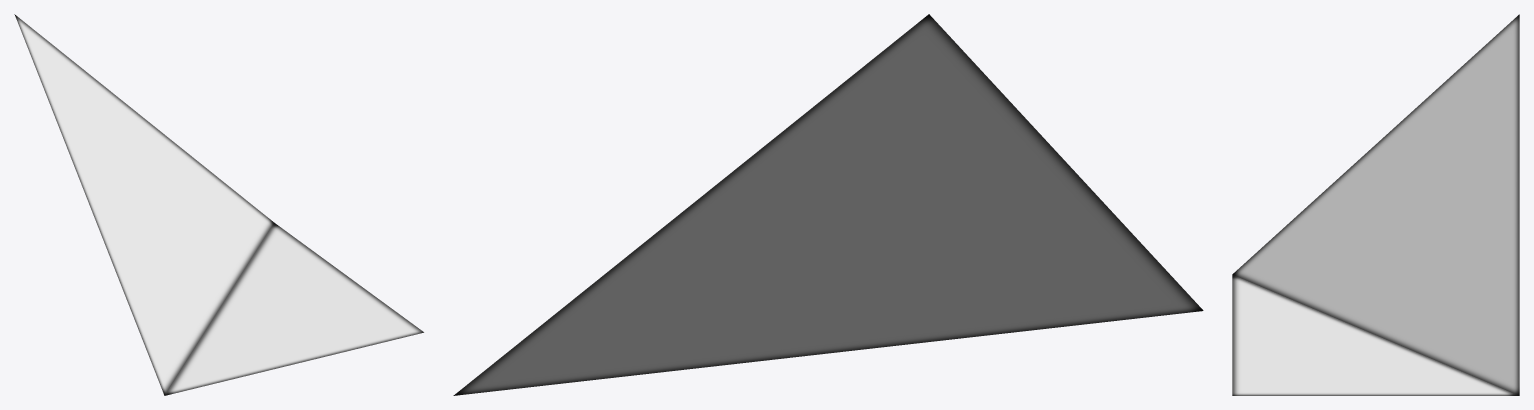
Rendered from corner_3-slope_inside_1-side.fbx.
The picture shows the model from 3 angles, left to right: view 1: azimuth 30°, elevation 25°; view 2: azimuth 150°, elevation 25°; view 3: azimuth 270°, elevation 25°; orthographic projection. The views are drawn at different scales.
Visible parts, largest first — view 1: corner_3-slope_inside_1-side; view 2: corner_3-slope_inside_1-side; view 3: corner_3-slope_inside_1-side.
Part boxes in pixels (left/top/right/bottom): corner_3-slope_inside_1-side: left=14, top=14, right=423, bottom=395; corner_3-slope_inside_1-side: left=453, top=14, right=1203, bottom=395; corner_3-slope_inside_1-side: left=1232, top=14, right=1519, bottom=395.
Bounding box in the file's own units: 100 × 100 × 100.
